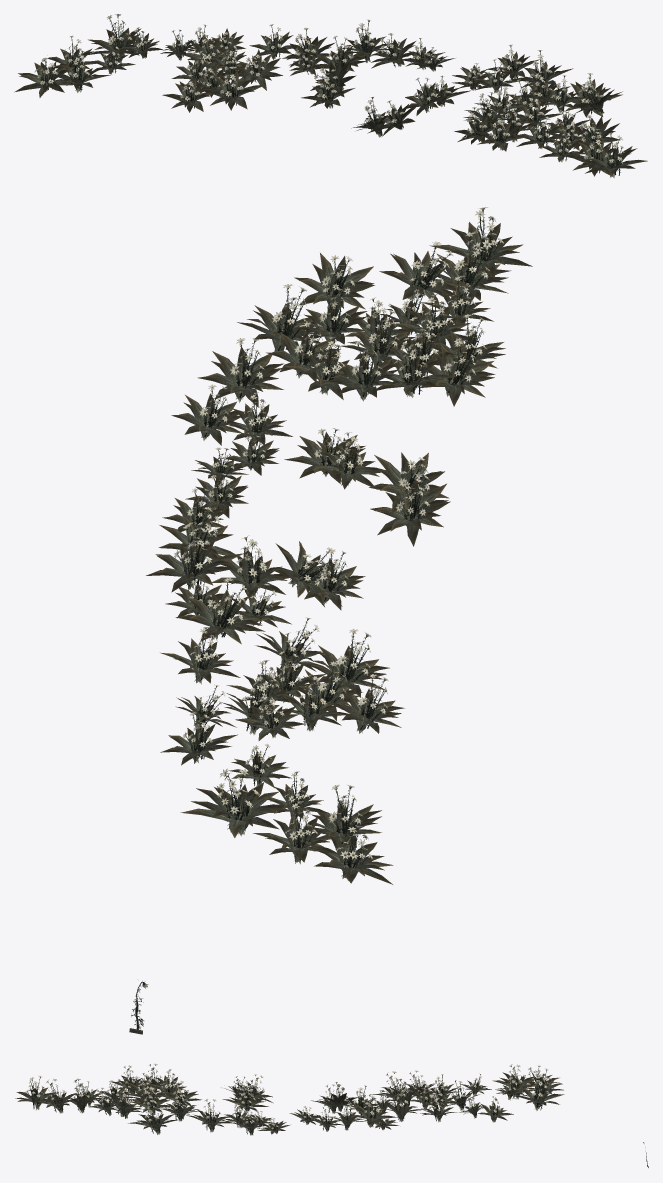
The model's file is grass25.fbx.
The picture shows the model from 3 angles, top to bottom: view 1: azimuth 30°, elevation 25°; view 2: azimuth 150°, elevation 25°; view 3: azimuth 270°, elevation 25°; orthographic projection. The views are drawn at different scales.
Visible parts, largest first — view 1: m121214_0; view 2: m121214_0; view 3: m121214_0.
Boxes of the visible parts, x1=… form: m121214_0: x1=14, y1=14, x2=647, y2=178; m121214_0: x1=129, y1=207, x2=532, y2=1034; m121214_0: x1=15, y1=1063, x2=648, y2=1167.
Size of the model in its own units: 66436 by 37652 by 135707.
Materials: 1 (1 with a texture image).
